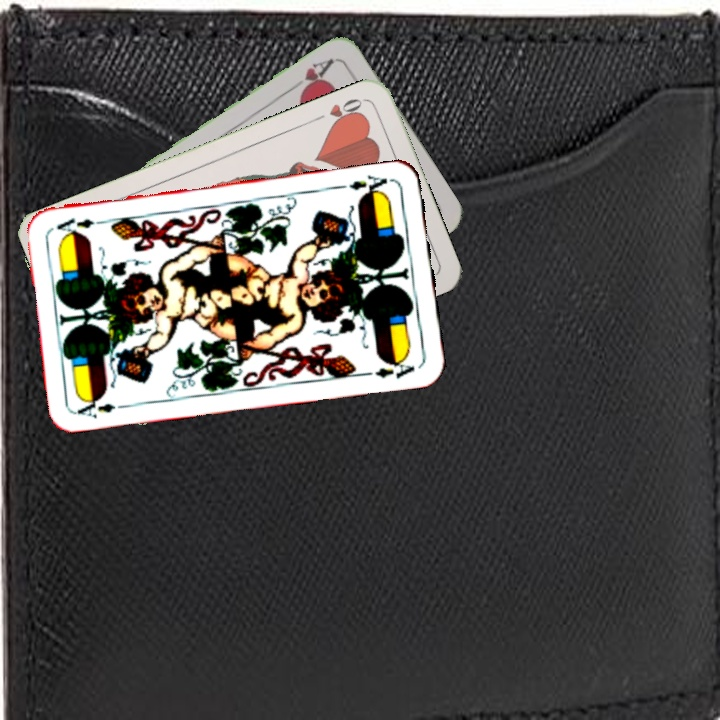EA: (73, 393, 132, 422), (345, 171, 395, 200)
HA: (287, 54, 337, 99)
HO: (310, 94, 367, 129)
